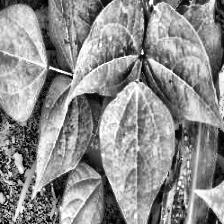Bean Rust: (145, 0, 224, 136), (100, 87, 172, 224), (69, 0, 143, 93)
